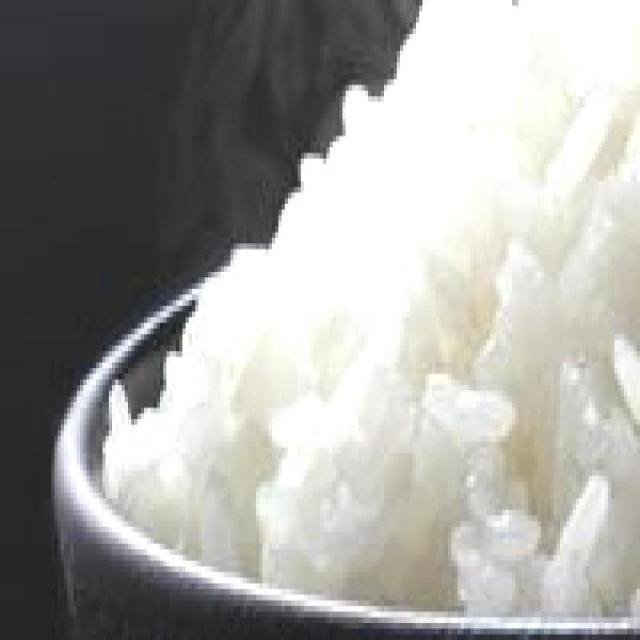rice: (105, 1, 640, 615)
